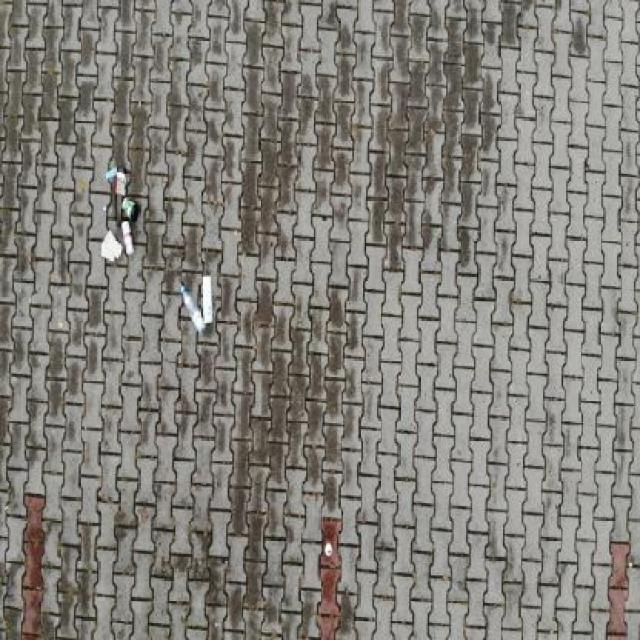Garbage: (179, 285, 207, 335), (100, 228, 123, 258), (116, 166, 127, 228), (120, 198, 140, 225), (201, 275, 212, 322), (121, 220, 133, 254), (325, 537, 332, 557), (106, 166, 117, 178), (103, 205, 107, 211), (60, 319, 62, 330)
